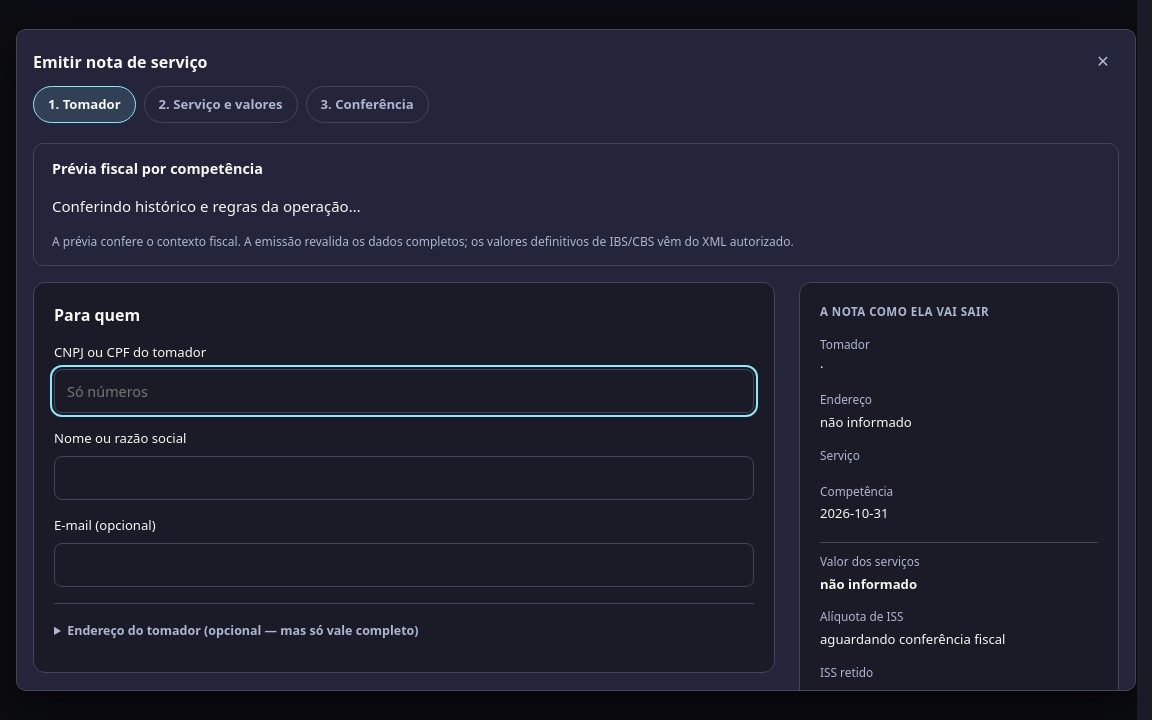
Test: consulta CNPJ pelo servidor do contador e permite tentar de novo após falha
Type "24352609000198" into the field with id "nfse-doc" at (404, 391), box [54,369,754,413]
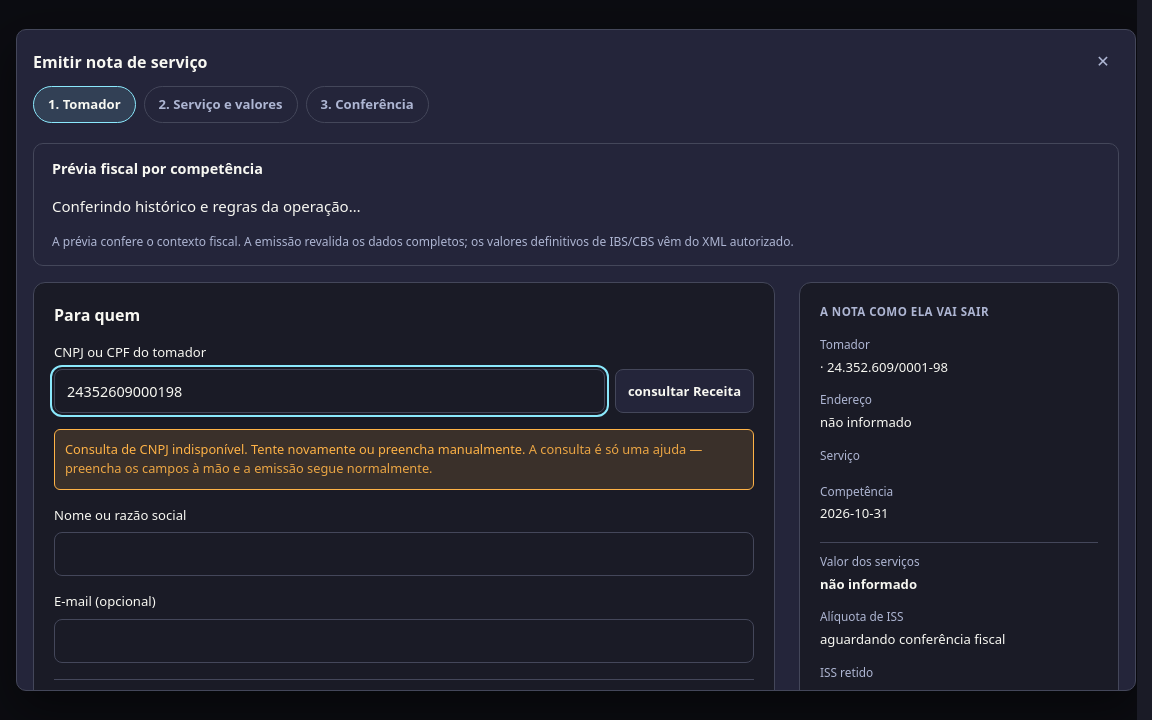
Expected: the text "Consulta de CNPJ indisponível" is shown, [65,440,526,458]
Click the button "consultar Receita" at (684, 391), box [615,369,754,413]
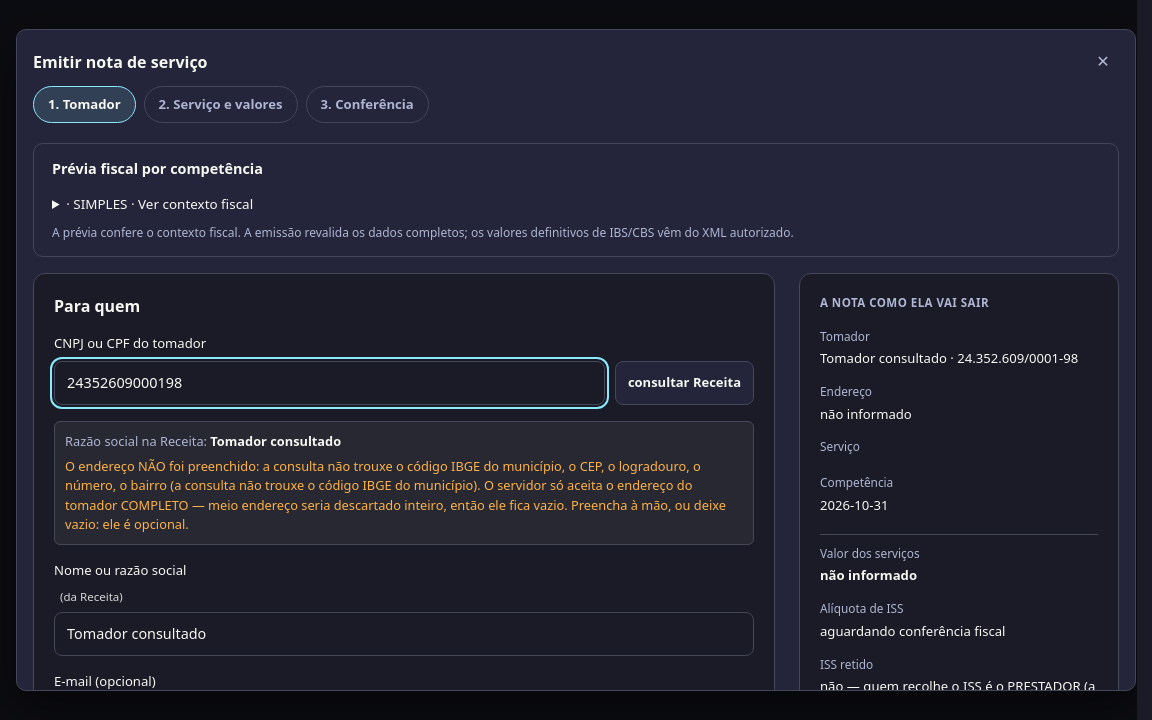
Expected: the field with id "nfse-nome" holds "Tomador consultado", [54,612,754,656]
